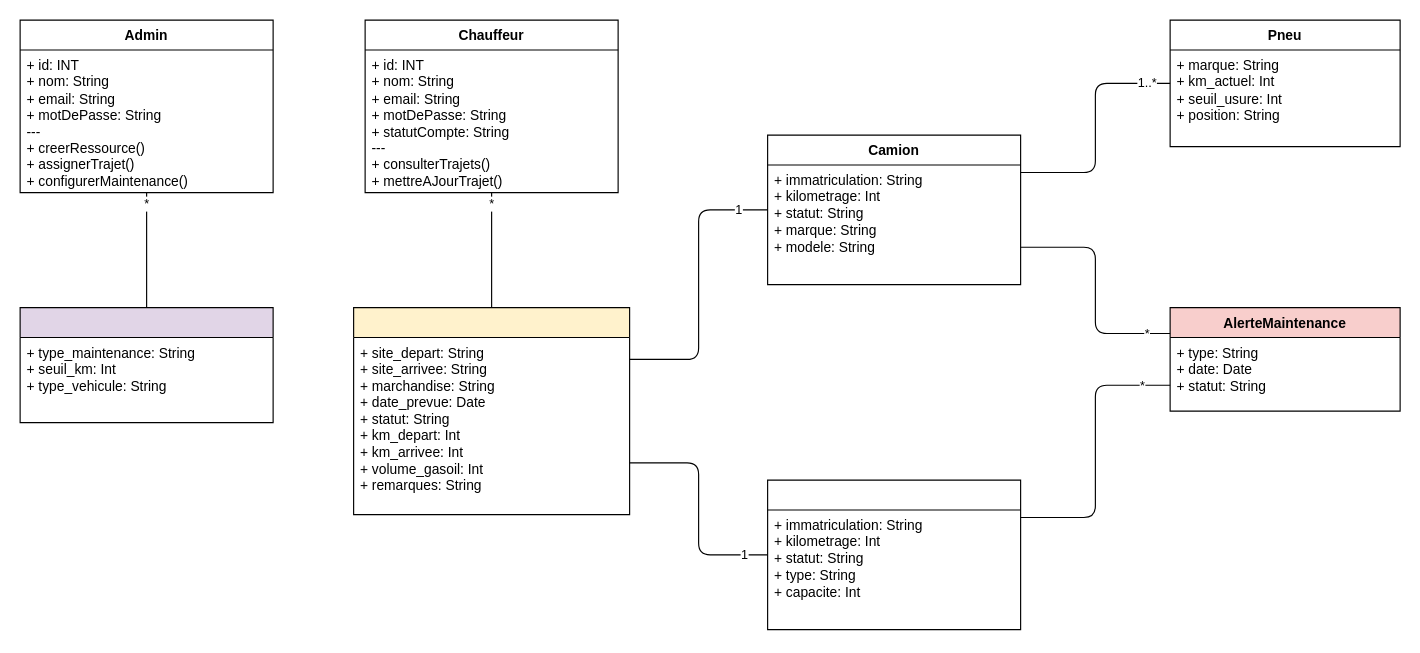
Image size: 1420x653. Some labels were removed from this diagram. The shapes that lost their labels are listed below. From the top down, each one's box as (x1, y1, x2, y2) in pixels, then its label:
(19, 306, 273, 423): RegleMaintenance
(352, 306, 630, 515): Trajet
(766, 479, 1021, 630): Remorque
